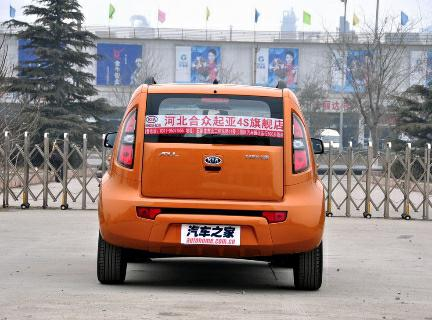起亚-秀尔: (93, 78, 334, 297)
